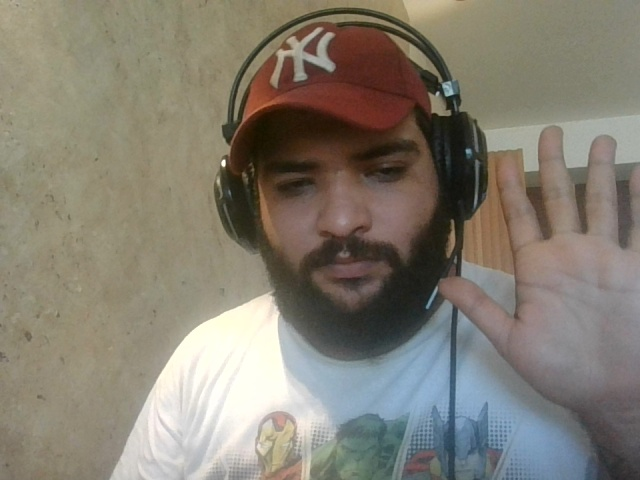hello: (438, 120, 638, 450)
